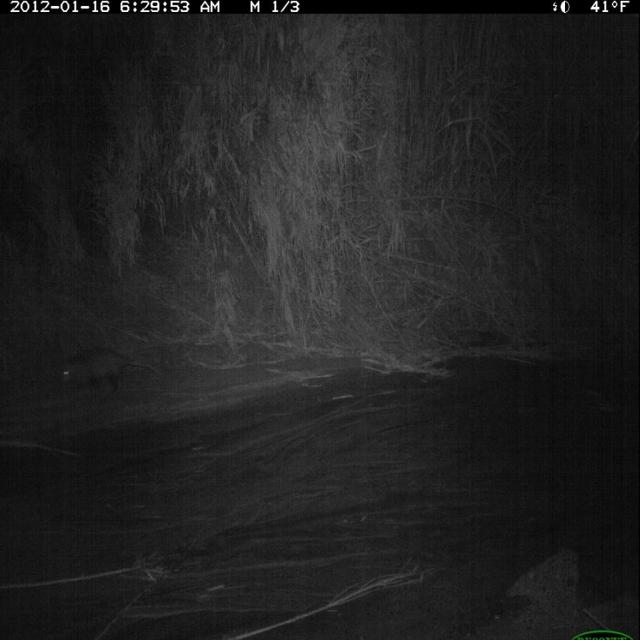opossum: (48, 344, 167, 400)
